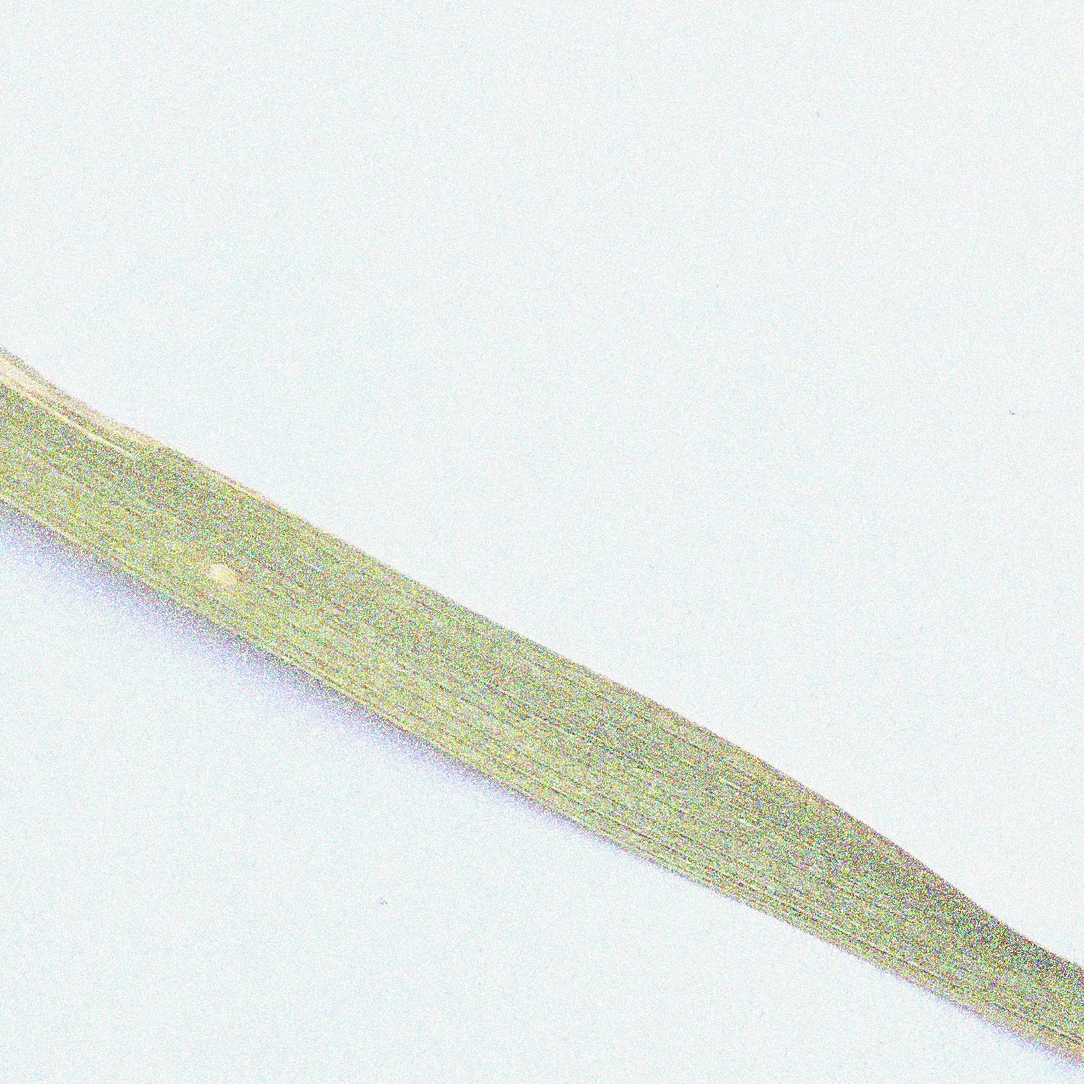Brown_Spot: (197, 528, 262, 596)
